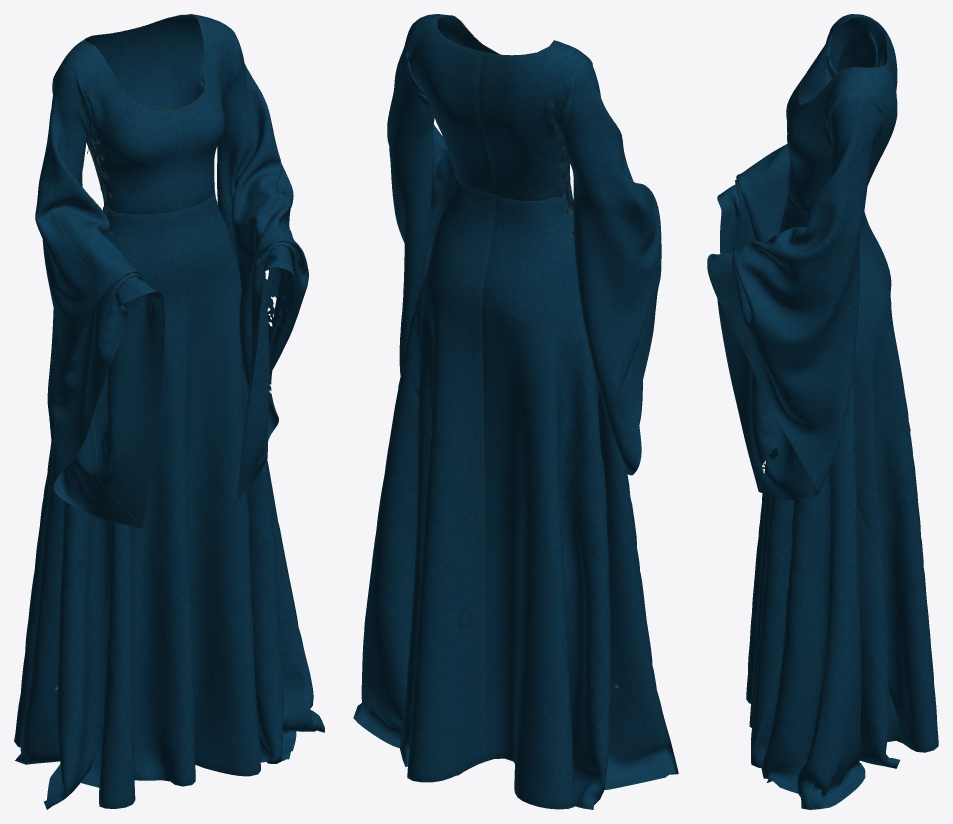
The model's file is blue_dress.glb.
3 renders of one model, left to right at view 1: azimuth 30°, elevation 25°; view 2: azimuth 150°, elevation 25°; view 3: azimuth 270°, elevation 25°, orthographic. The views are drawn at different scales.
Parts seen in each view (by area): view 1: defaultMaterial (×2); view 2: defaultMaterial (×2); view 3: defaultMaterial (×2).
Part boxes in pixels (bbox=[...]): defaultMaterial (×2): bbox=[14, 14, 324, 809]; defaultMaterial (×2): bbox=[353, 14, 678, 809]; defaultMaterial (×2): bbox=[707, 14, 938, 809].
Size of the model in its own units: 261 by 612 by 185.
Materials: 1 (1 with a texture image).
